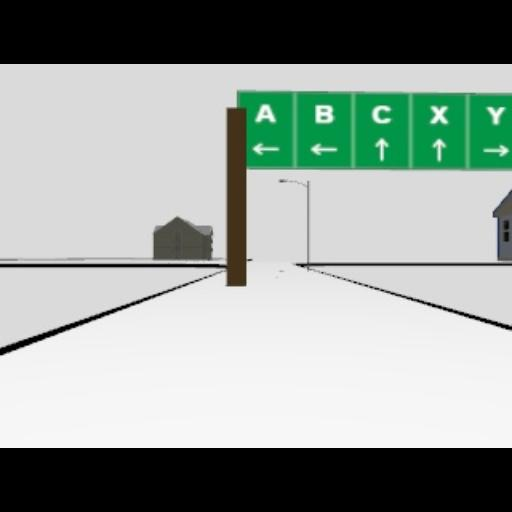A: (254, 102, 276, 124)
B: (314, 104, 332, 124)
C: (372, 104, 392, 124)
Left: (308, 142, 338, 156), (252, 142, 280, 156)
Right: (482, 144, 508, 156)
Straight: (375, 136, 389, 160), (432, 138, 446, 160)
X: (428, 104, 448, 124)
Y: (484, 106, 506, 124)
